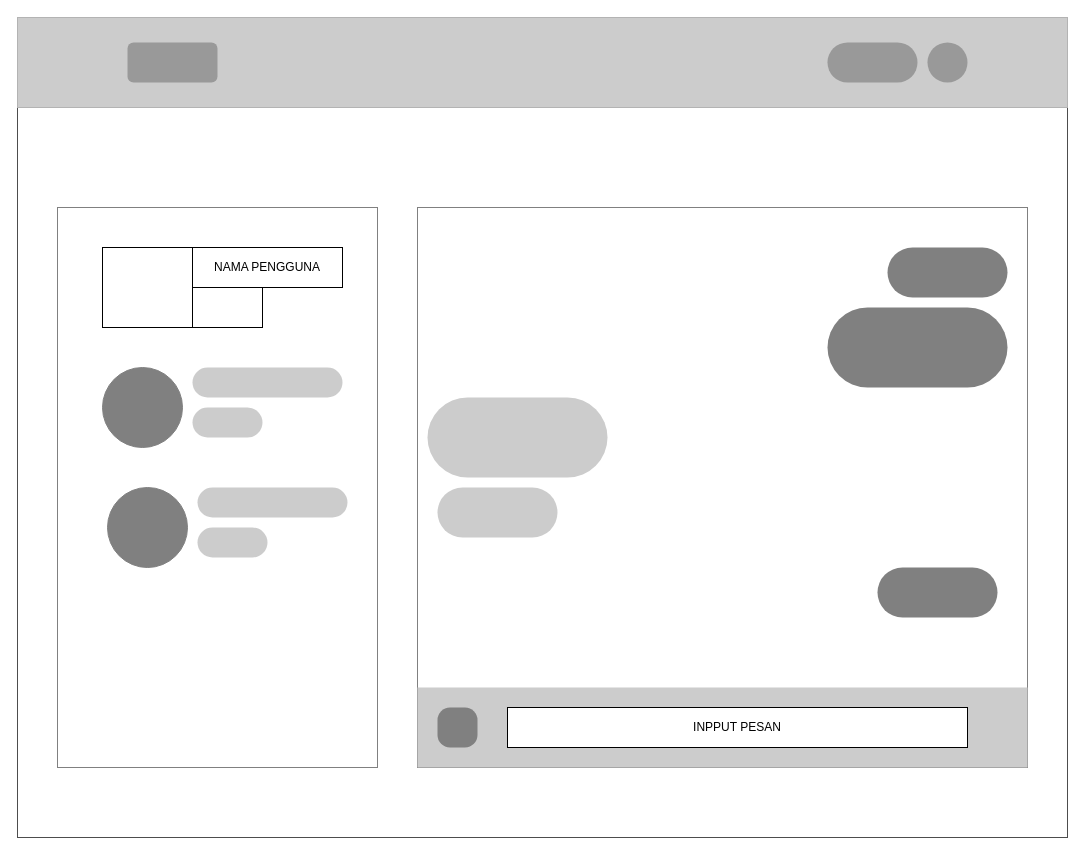
Image size: 1085x855. Some labels were removed from this diagram. Each missing label, with the centre of its shape:
"AVATAR" belongs at [147,287].
"STATUS" belongs at [227,307].
